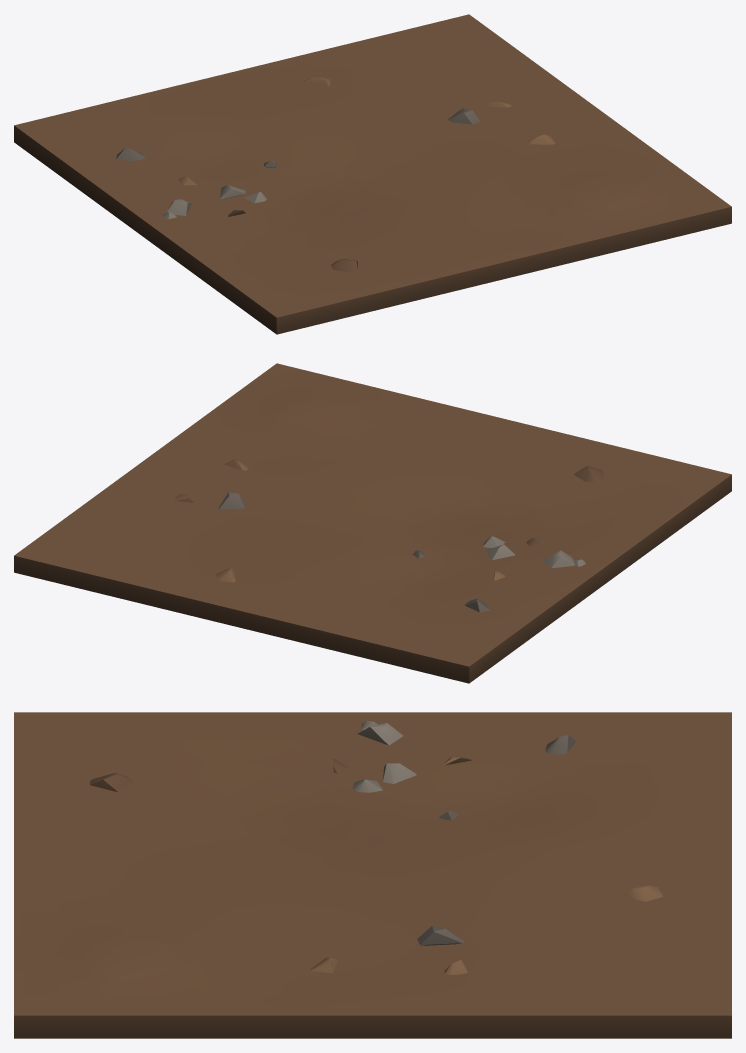
File: floor_earth_large_F.glb
The picture shows the model from 3 angles, top to bottom: view 1: azimuth 30°, elevation 25°; view 2: azimuth 150°, elevation 25°; view 3: azimuth 270°, elevation 25°; orthographic projection. The views are drawn at different scales.
Parts seen in each view (by area): view 1: Item; view 2: Item; view 3: Item.
Boxes of the visible parts, x1,y1,x2,y2 form: Item: (14, 14, 731, 334); Item: (14, 363, 731, 683); Item: (14, 712, 731, 1038).
Size of the model in its own units: 4 by 0.224 by 4.
Materials: 1 (1 with a texture image).
